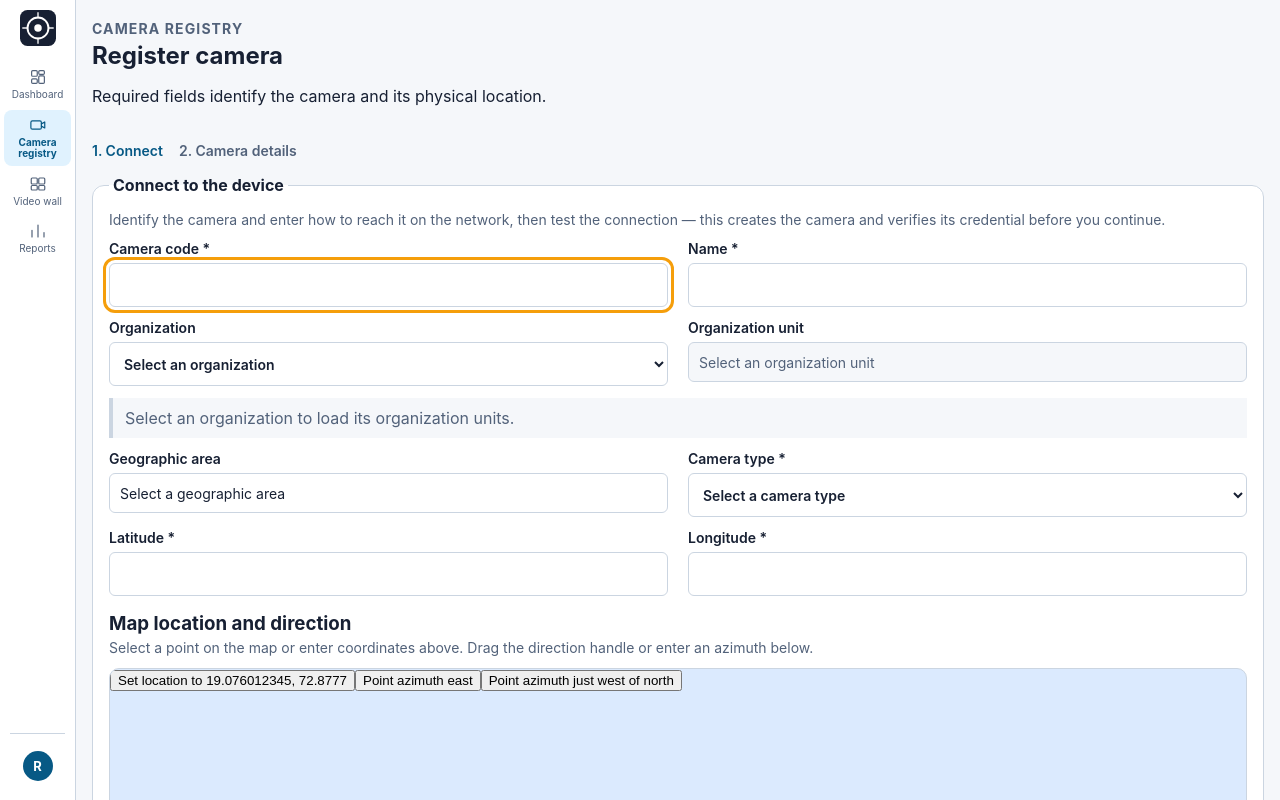
Test case: preserves entered camera values while organization units fail and retry
The image size is (1280, 800).
Type "CAM-PRESERVED" into the field labelled "Camera code *".
click(388, 285); type("CAM-PRESERVED")  # box [109,263,668,307]
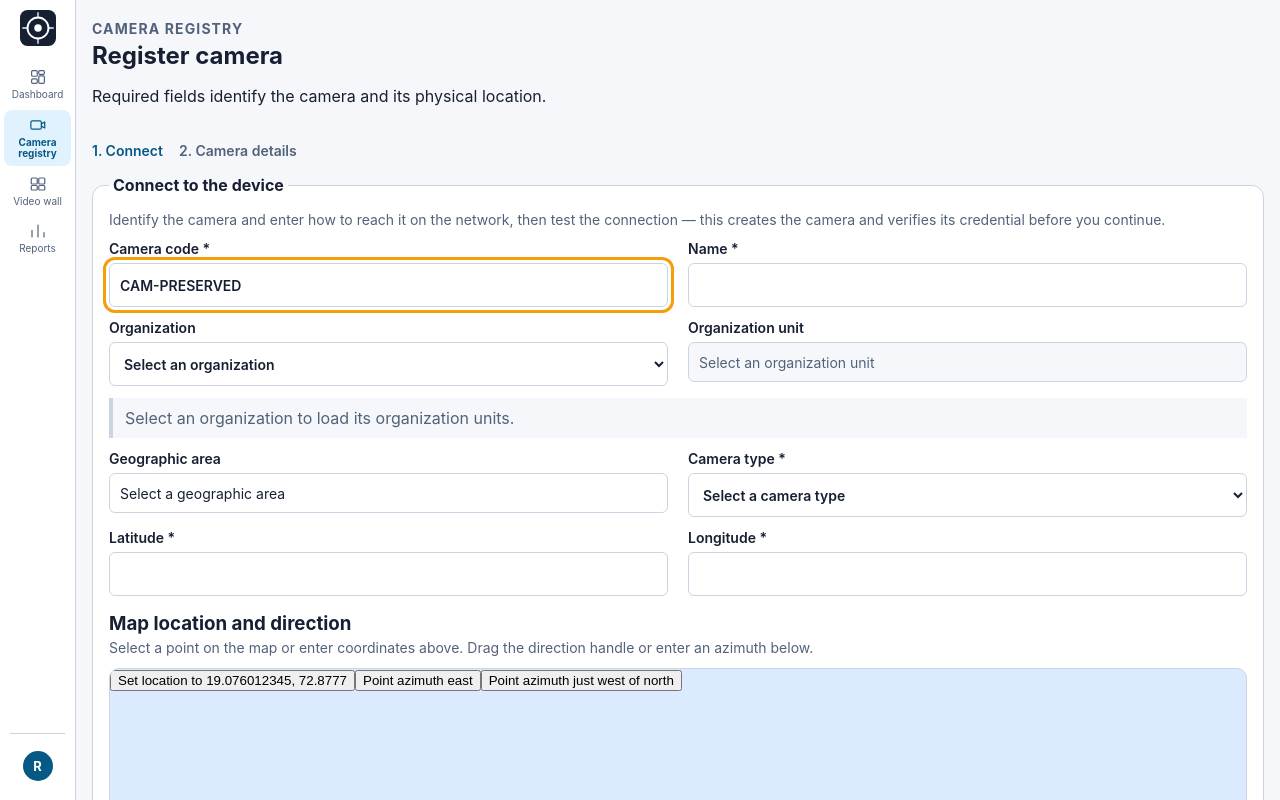
Type "Preserved camera" into the field labelled "Name *".
click(968, 285); type("Preserved camera")  # box [688,263,1247,307]
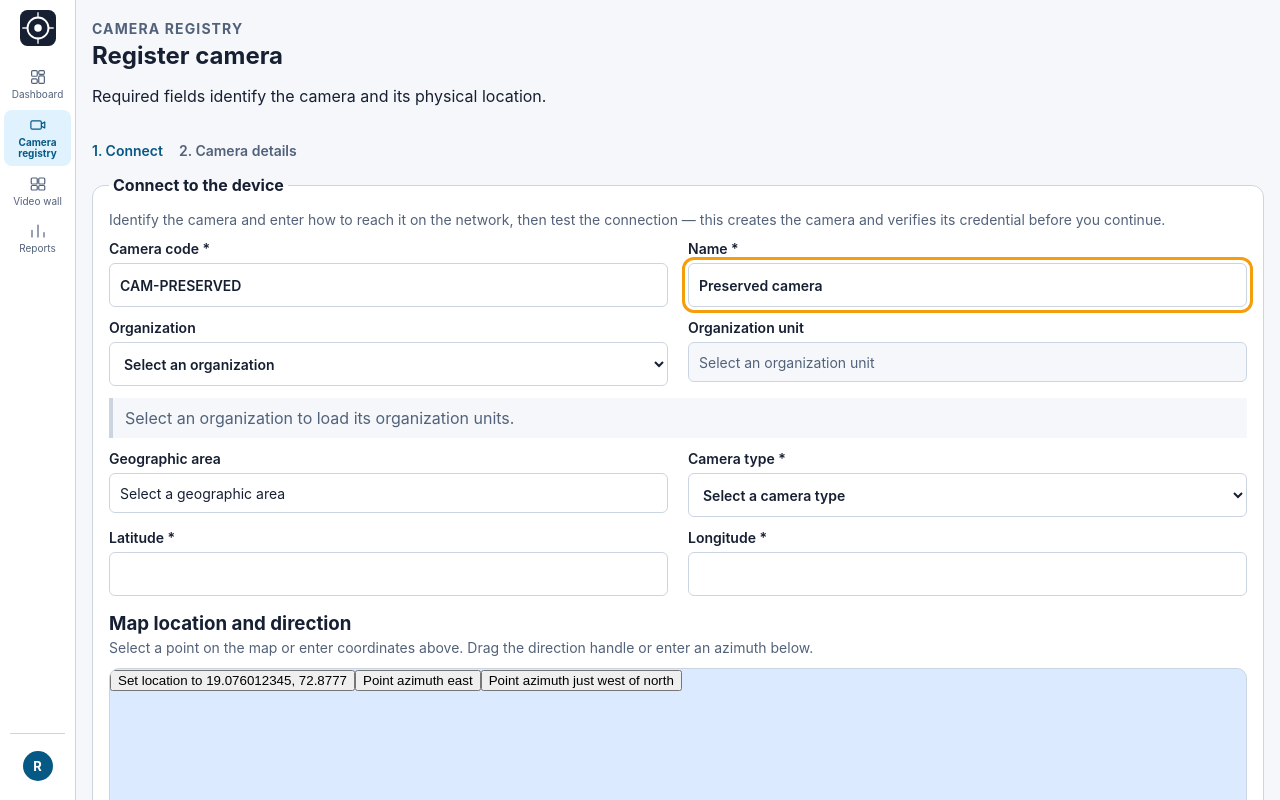
Select "Operations (OPS)" in the dropdown labelled "Organization" at (388, 364), box [109,342,668,386]
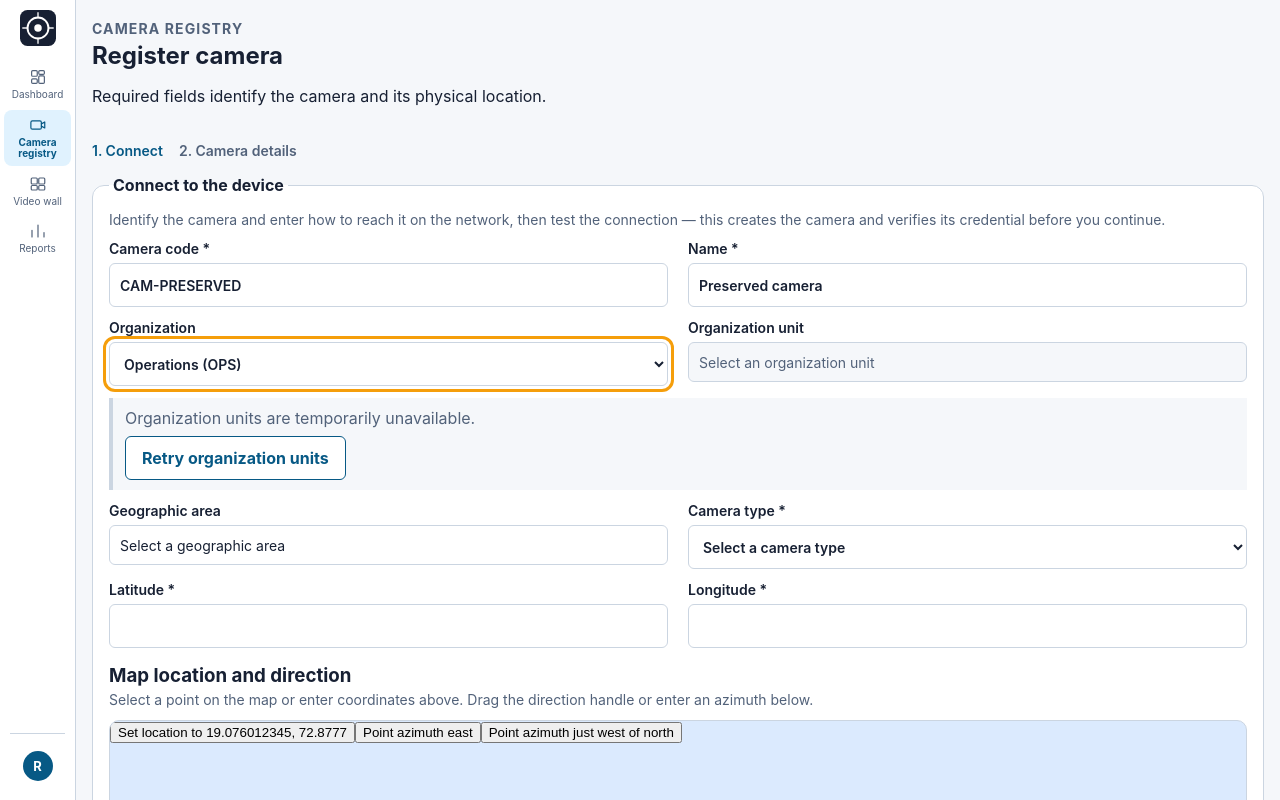
Expected: the dropdown labelled "Select an organization unit" is disabled, [688,342,1247,382]
Click the button "Retry organization units".
click(235, 458)  # box [125,436,346,480]
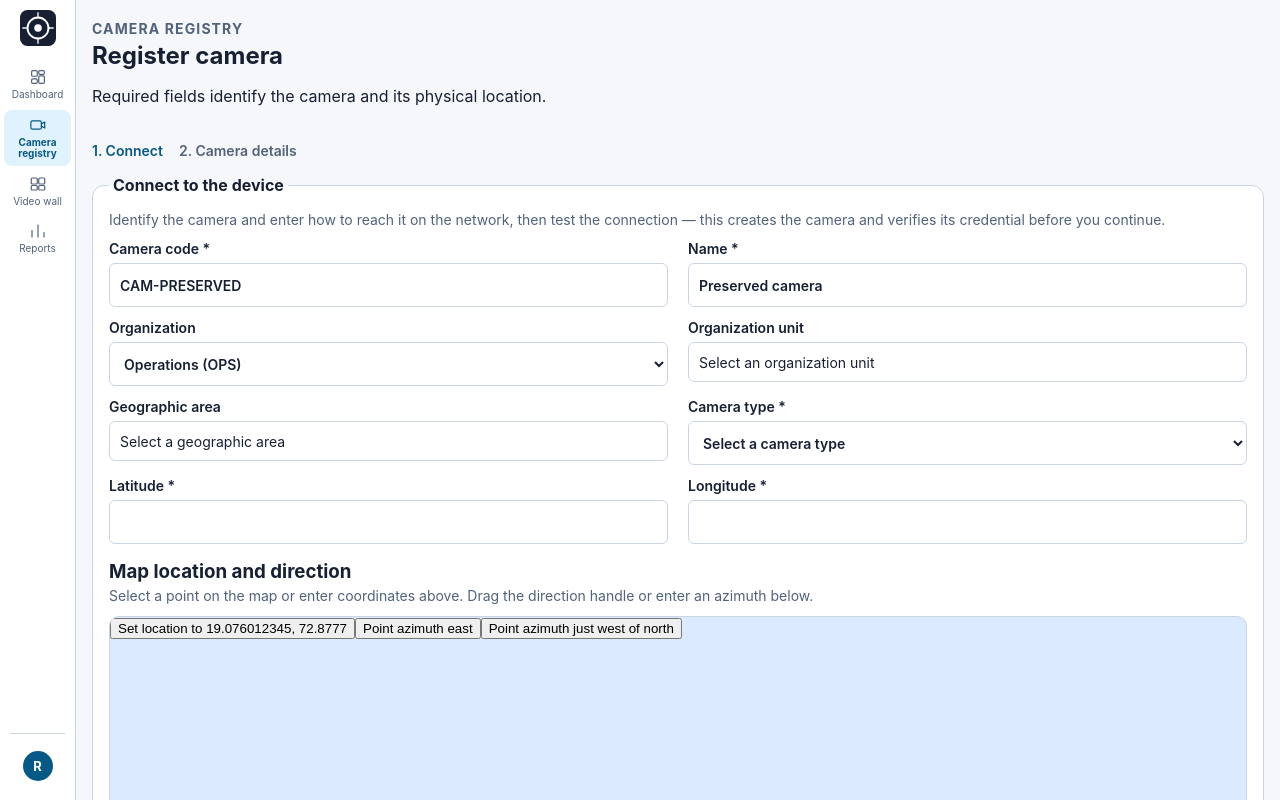
Expected: the dropdown labelled "Select an organization unit" is enabled
Click the dropdown labelled "Select an organization unit".
click(787, 362)  # box [688,342,1247,382]
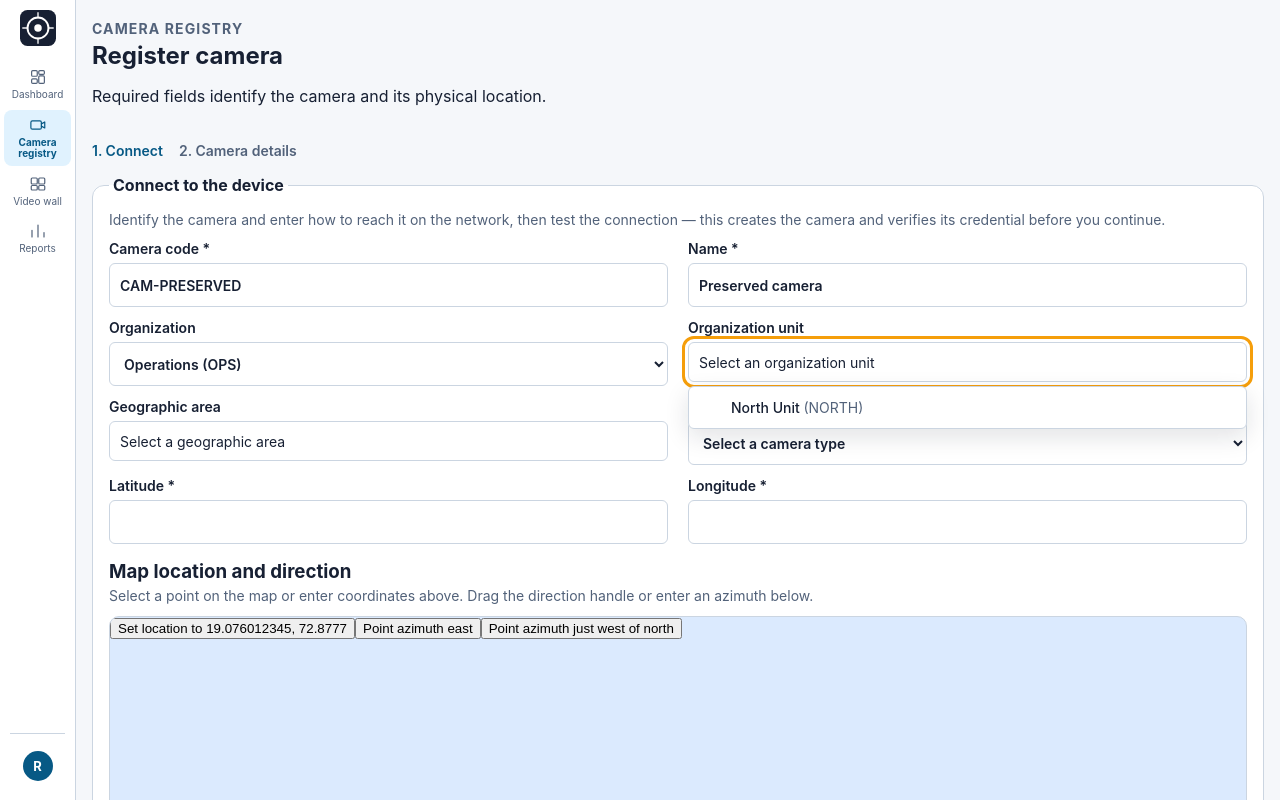
Expected: the button "North Unit (NORTH)" is shown, [723,393,1240,422]
